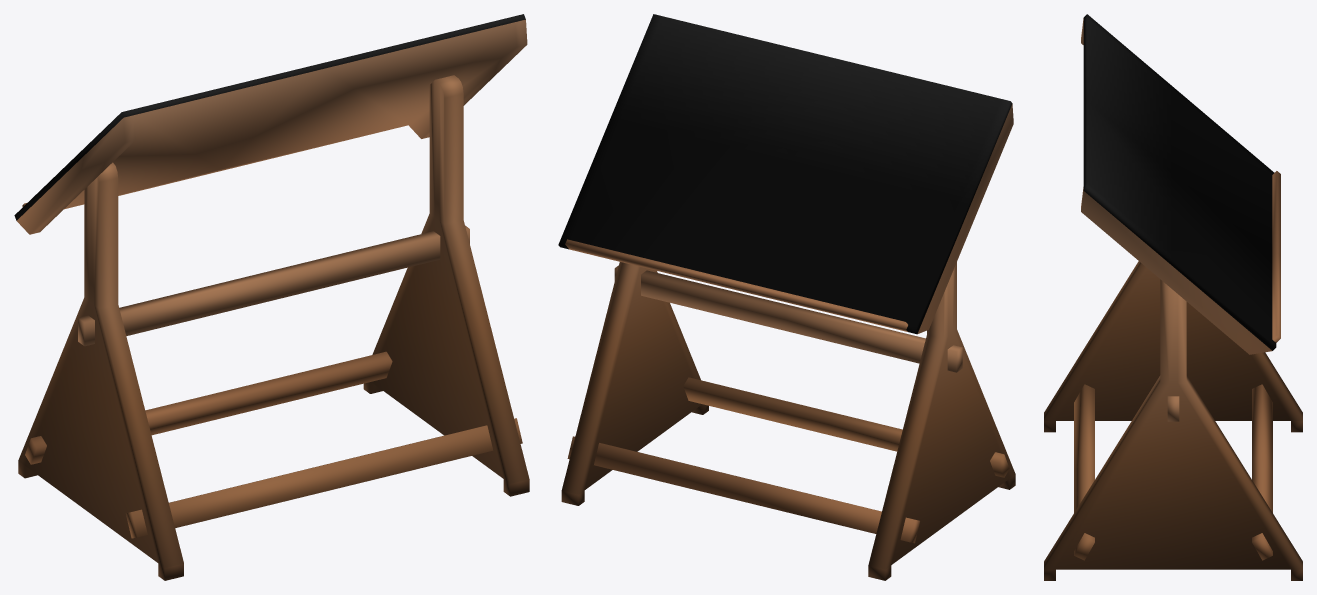
File: drawing_desk.gltf
3 renders of one model, left to right at view 1: azimuth 30°, elevation 25°; view 2: azimuth 150°, elevation 25°; view 3: azimuth 270°, elevation 25°, orthographic. The views are drawn at different scales.
Parts seen in each view (by area): view 1: Cube; view 2: Cube; view 3: Cube.
Part boxes in pixels (box(x1,y1,x2,y2)): Cube: box(14, 14, 529, 580); Cube: box(558, 14, 1015, 580); Cube: box(1044, 14, 1302, 580).
Bounding box in the file's own units: 3.17 × 3.42 × 2.
Materials: 1 (1 with a texture image).
